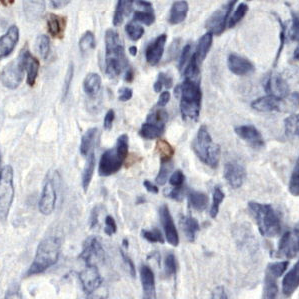Lymphocyte: (48, 16, 64, 37)
